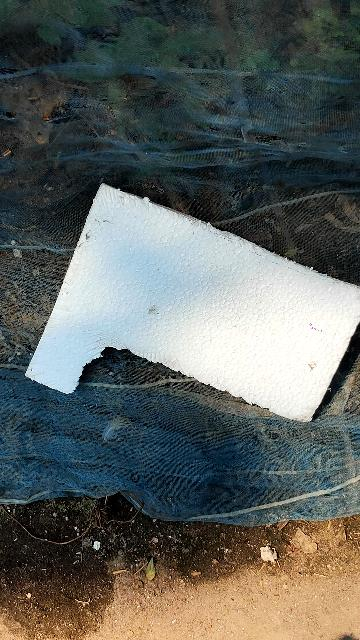cocksheet: (21, 176, 360, 423)
